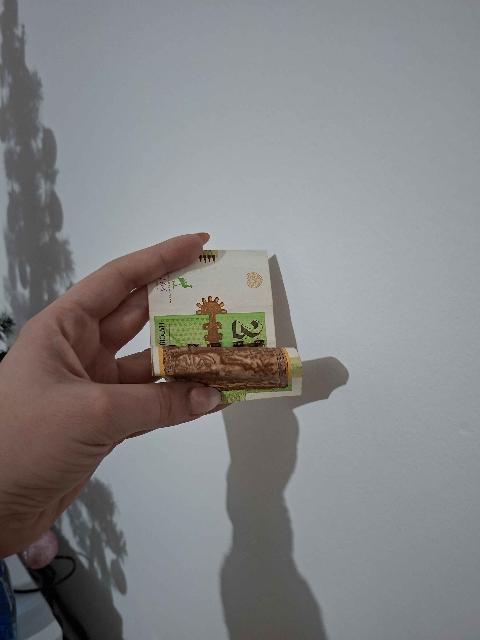note: (141, 245, 303, 406)
